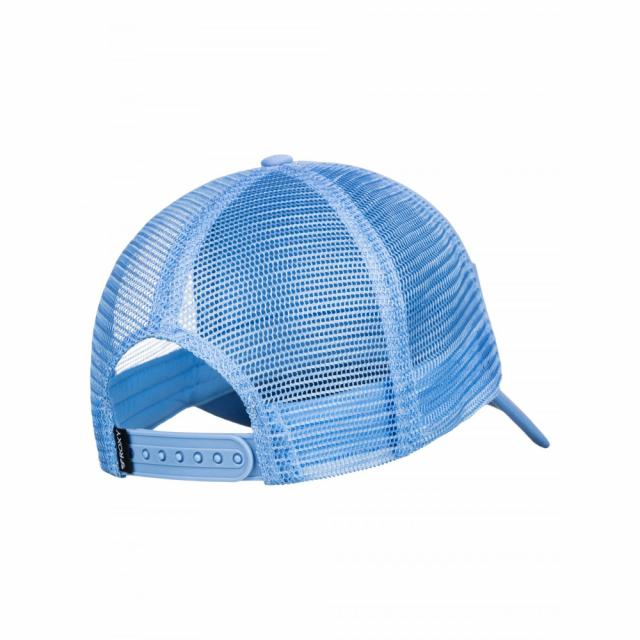Cap: (85, 153, 566, 508)
